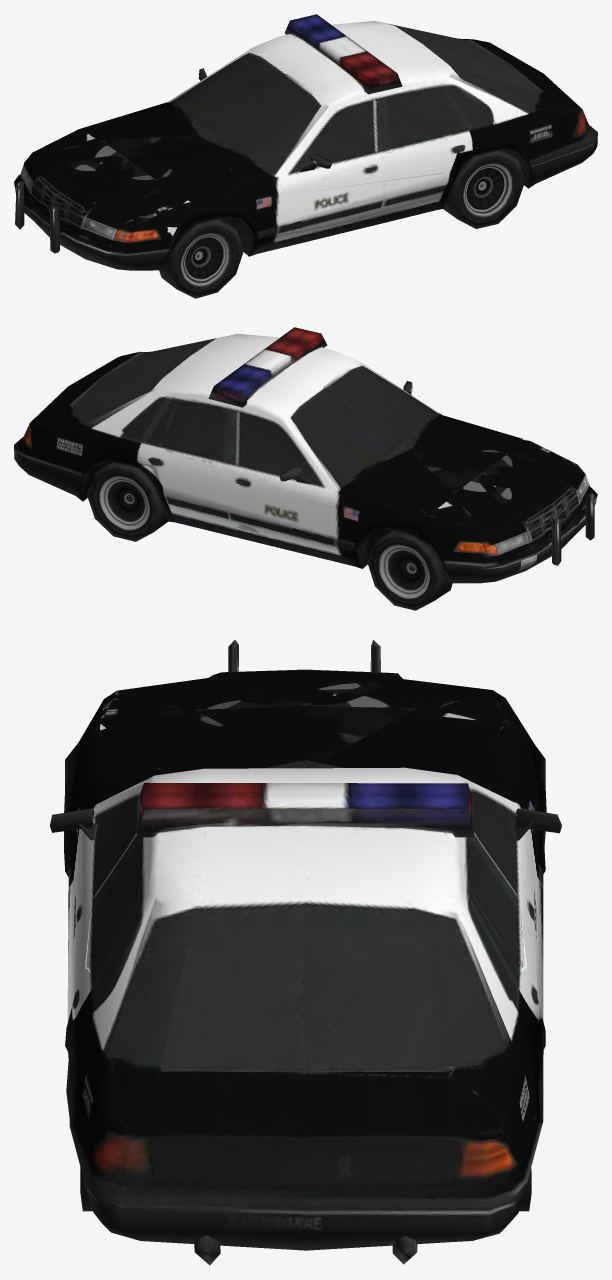
Rendered from police.glb.
3 renders of one model, top to bottom at view 1: azimuth 30°, elevation 25°; view 2: azimuth 150°, elevation 25°; view 3: azimuth 270°, elevation 25°, orthographic. The views are drawn at different scales.
Visible parts, largest first — view 1: mesh_node; view 2: mesh_node; view 3: mesh_node.
Part boxes in pixels (bbox=[...]): mesh_node: bbox=[14, 14, 597, 298]; mesh_node: bbox=[14, 327, 597, 610]; mesh_node: bbox=[50, 640, 561, 1265].
Bounding box in the file's own units: 1 × 0.292 × 0.4248.
1 material, 1 textured.
